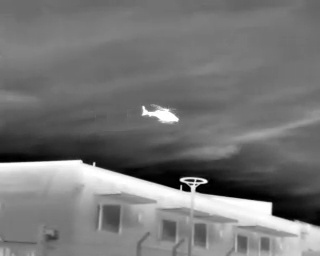HELICOPTER: (138, 98, 188, 131)
